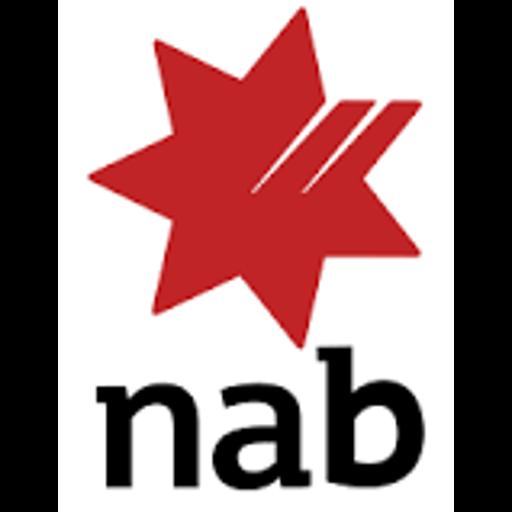National Australia Bank Limited: (58, 0, 454, 512)
